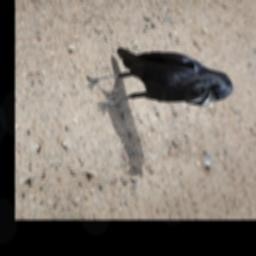Crow: (80, 37, 237, 117)
